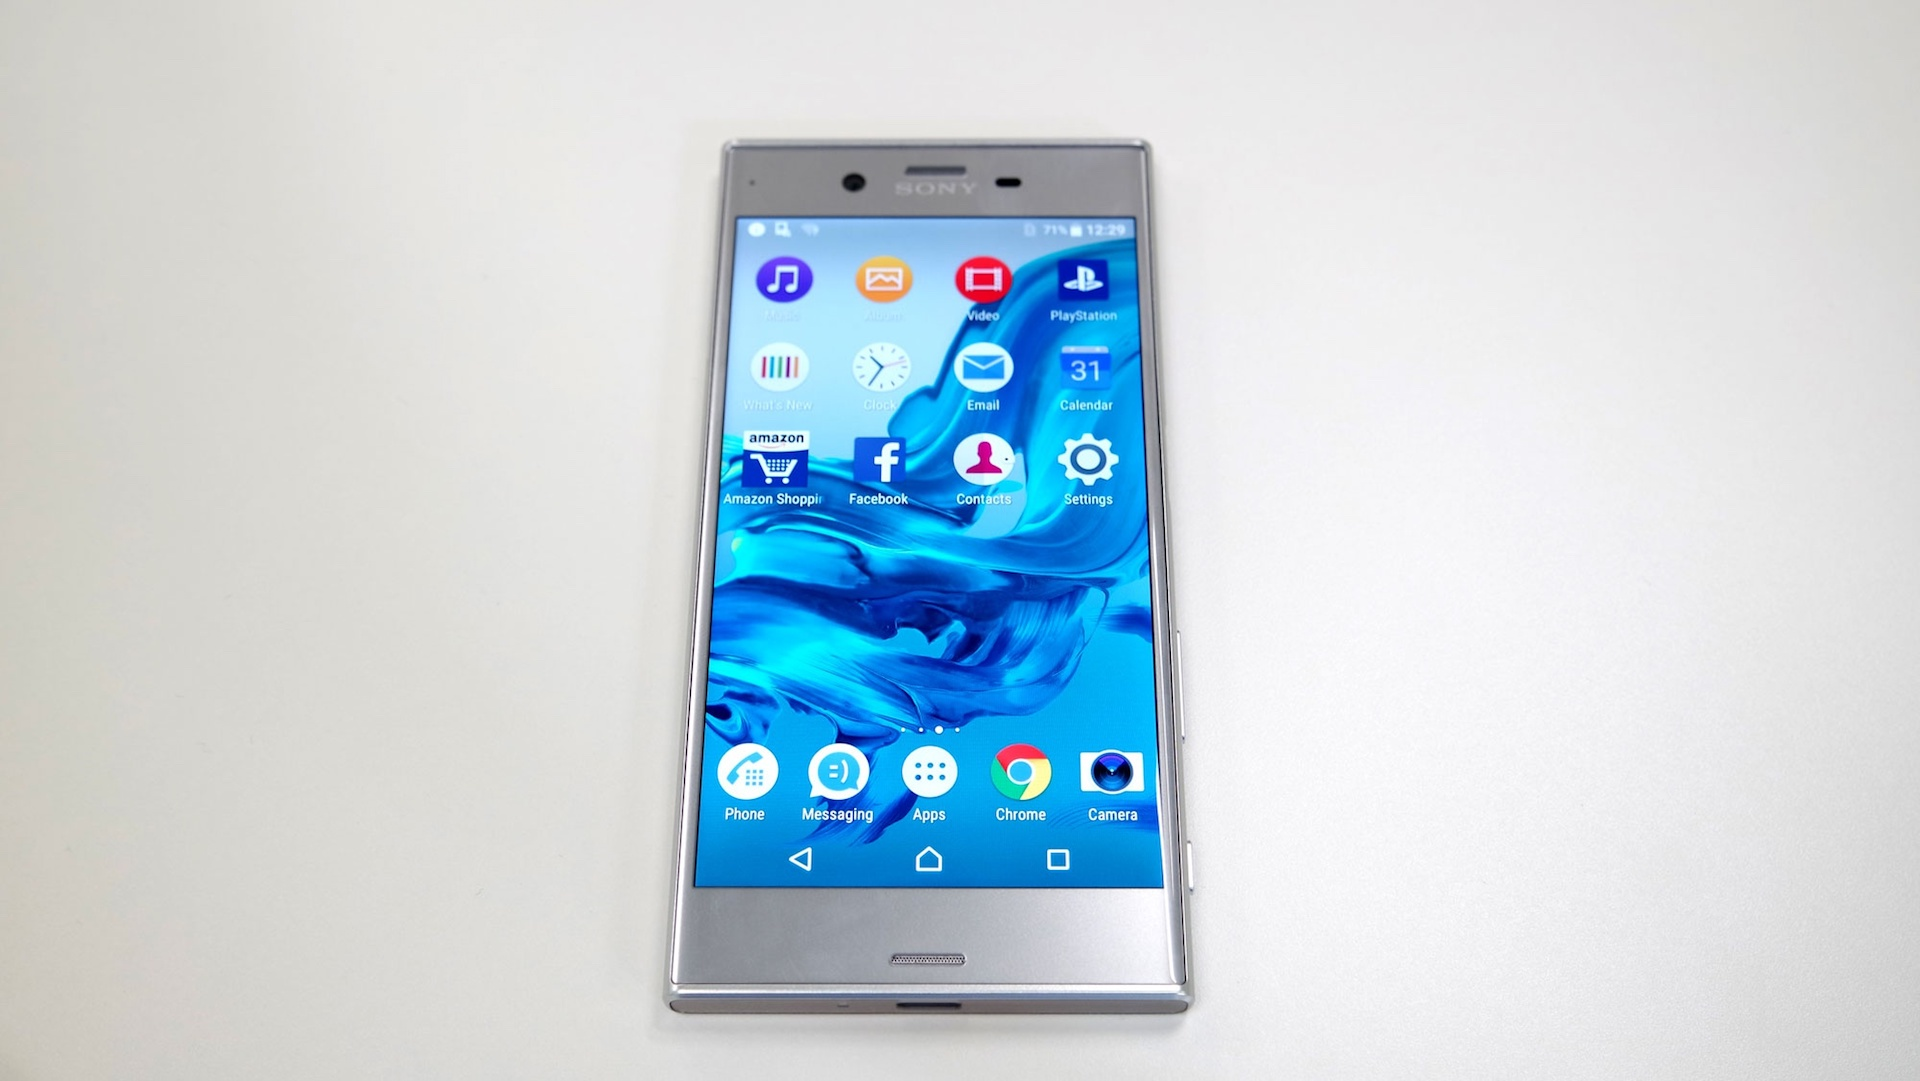smartphone: (665, 134, 1197, 1016)
